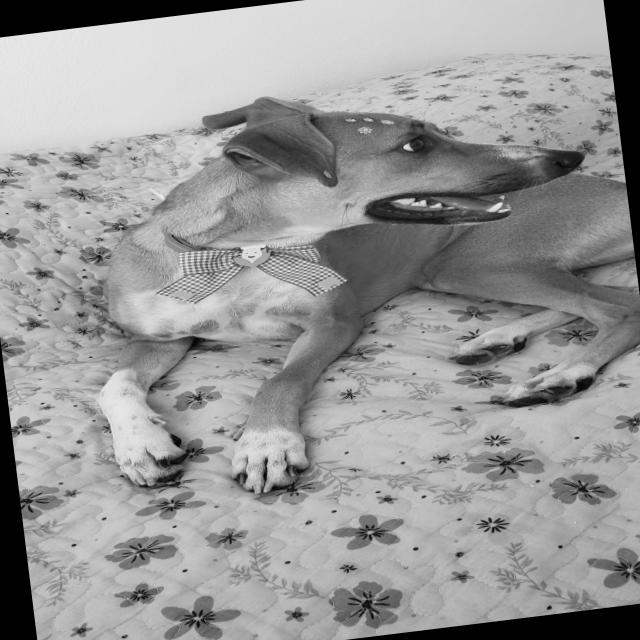laying down: (20, 50, 640, 521)
